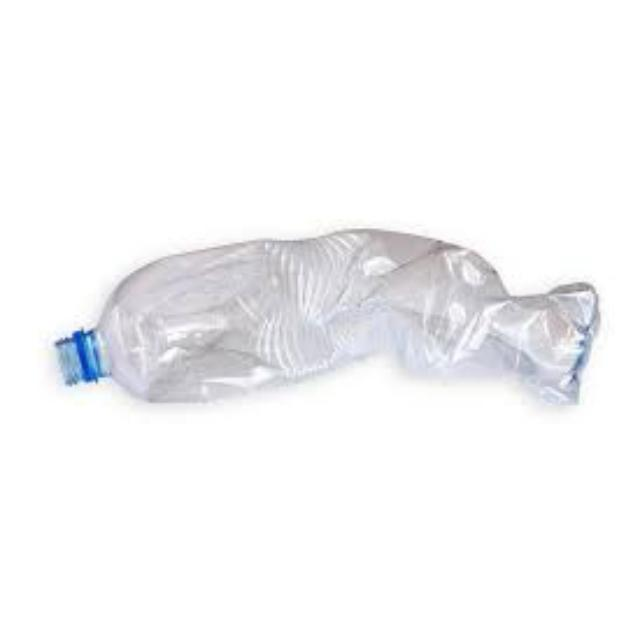Plastic: (42, 205, 610, 437), (42, 629, 609, 640), (42, 0, 609, 9)
